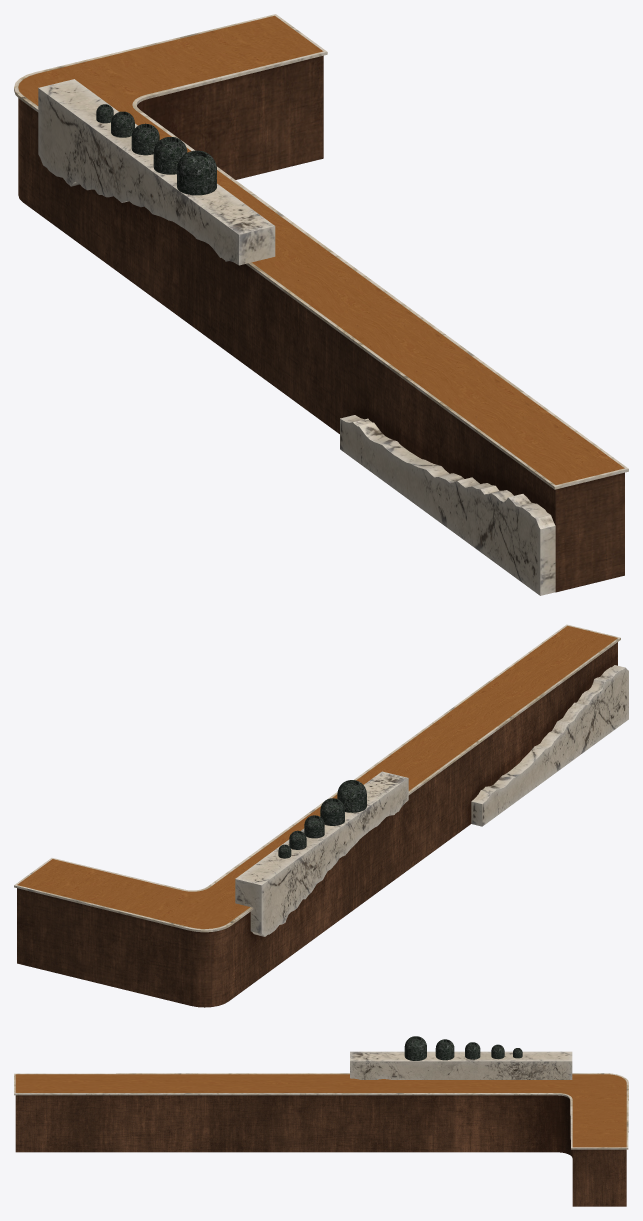
The model's file is Recep_2.glb.
3 views of the same model, one above another, from view 1: azimuth 30°, elevation 25°; view 2: azimuth 150°, elevation 25°; view 3: azimuth 270°, elevation 25° (orthographic). The views are drawn at different scales.
Visible parts, largest first — view 1: model_25.001_Plate.001, Cylinder.004, Cylinder.003; view 2: model_25.001_Plate.001, Cylinder.004, Cylinder.003; view 3: model_25.001_Plate.001, Cylinder.004, Cylinder.003.
Part boxes in pixels (left/top/right/bottom): model_25.001_Plate.001: left=14, top=14, right=628, bottom=595; Cylinder.004: left=177, top=150, right=216, bottom=195; Cylinder.003: left=153, top=137, right=187, bottom=174; model_25.001_Plate.001: left=14, top=624, right=628, bottom=1007; Cylinder.004: left=337, top=780, right=366, bottom=812; Cylinder.003: left=320, top=798, right=344, bottom=825; model_25.001_Plate.001: left=14, top=1051, right=628, bottom=1206; Cylinder.004: left=404, top=1036, right=426, bottom=1060; Cylinder.003: left=435, top=1039, right=454, bottom=1060.
Size of the model in its own units: 477 by 272 by 1590.
4 materials, 4 textured.
